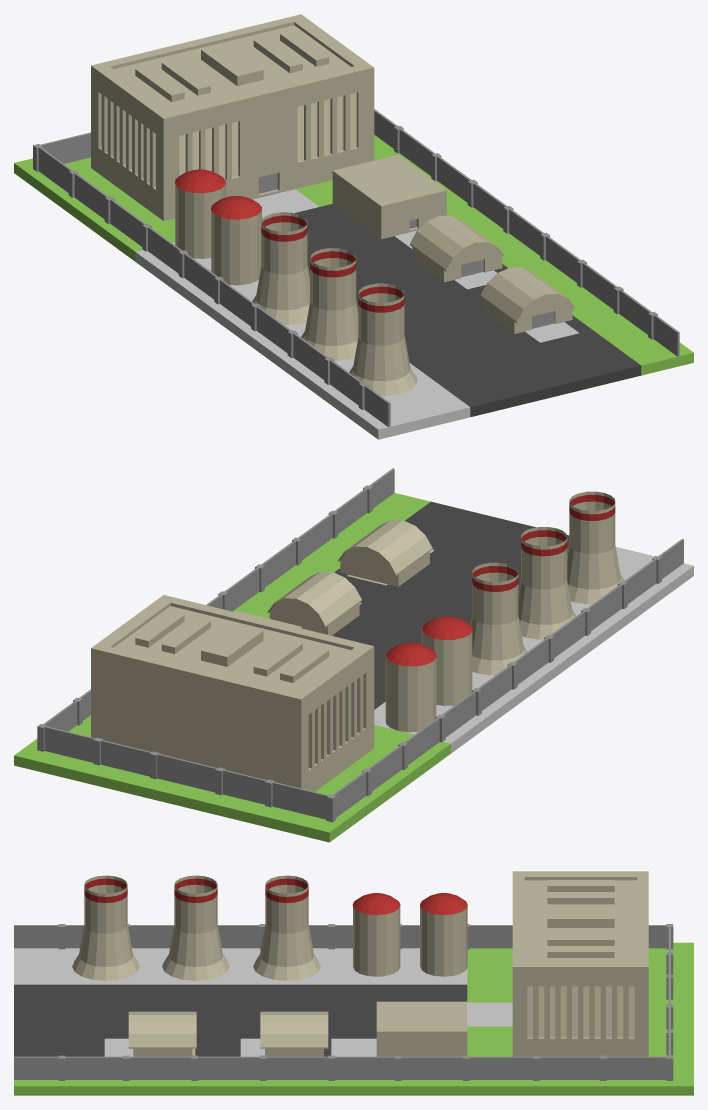
The model's file is Sketchfab_2018_05_14_13_33_02.fbx.
3 views of the same model, one above another, from view 1: azimuth 30°, elevation 25°; view 2: azimuth 150°, elevation 25°; view 3: azimuth 270°, elevation 25° (orthographic). The views are drawn at different scales.
Visible parts, largest first — view 1: Cube; view 2: Cube; view 3: Cube.
Part boxes in pixels (bbox=[...]): Cube: bbox=[14, 14, 693, 439]; Cube: bbox=[14, 468, 693, 842]; Cube: bbox=[14, 871, 693, 1095].
Size of the model in its own units: 1000 by 360 by 2000.
